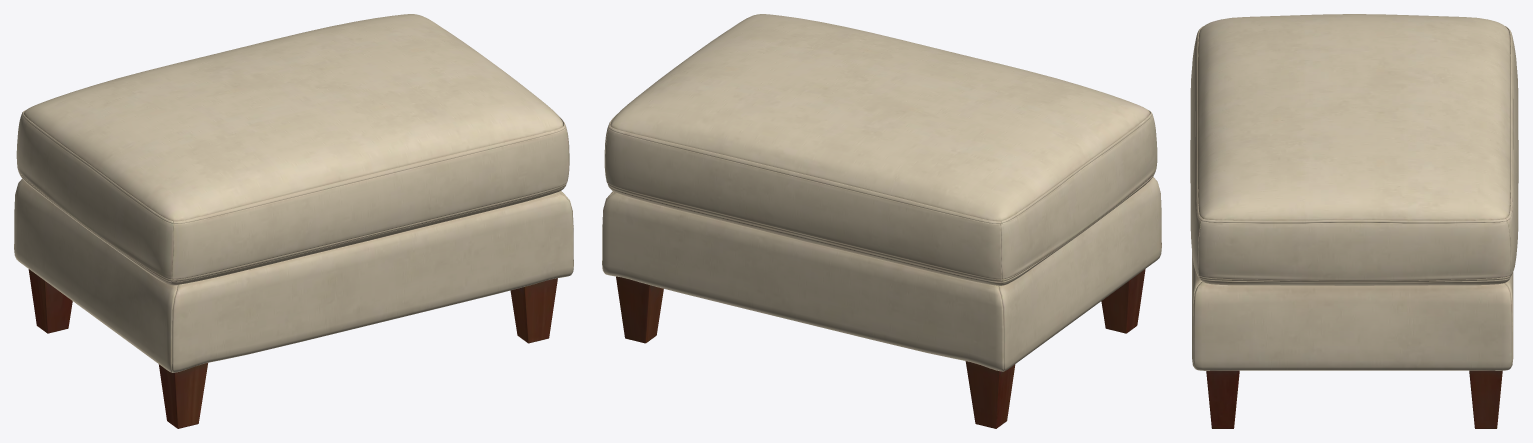
File: abo-B075X61W35.glb
3 views of the same model, side by side, from view 1: azimuth 30°, elevation 25°; view 2: azimuth 150°, elevation 25°; view 3: azimuth 270°, elevation 25° (orthographic).
Size of the model in its own units: 0.864 by 0.483 by 0.584.
1 material, 1 textured.
